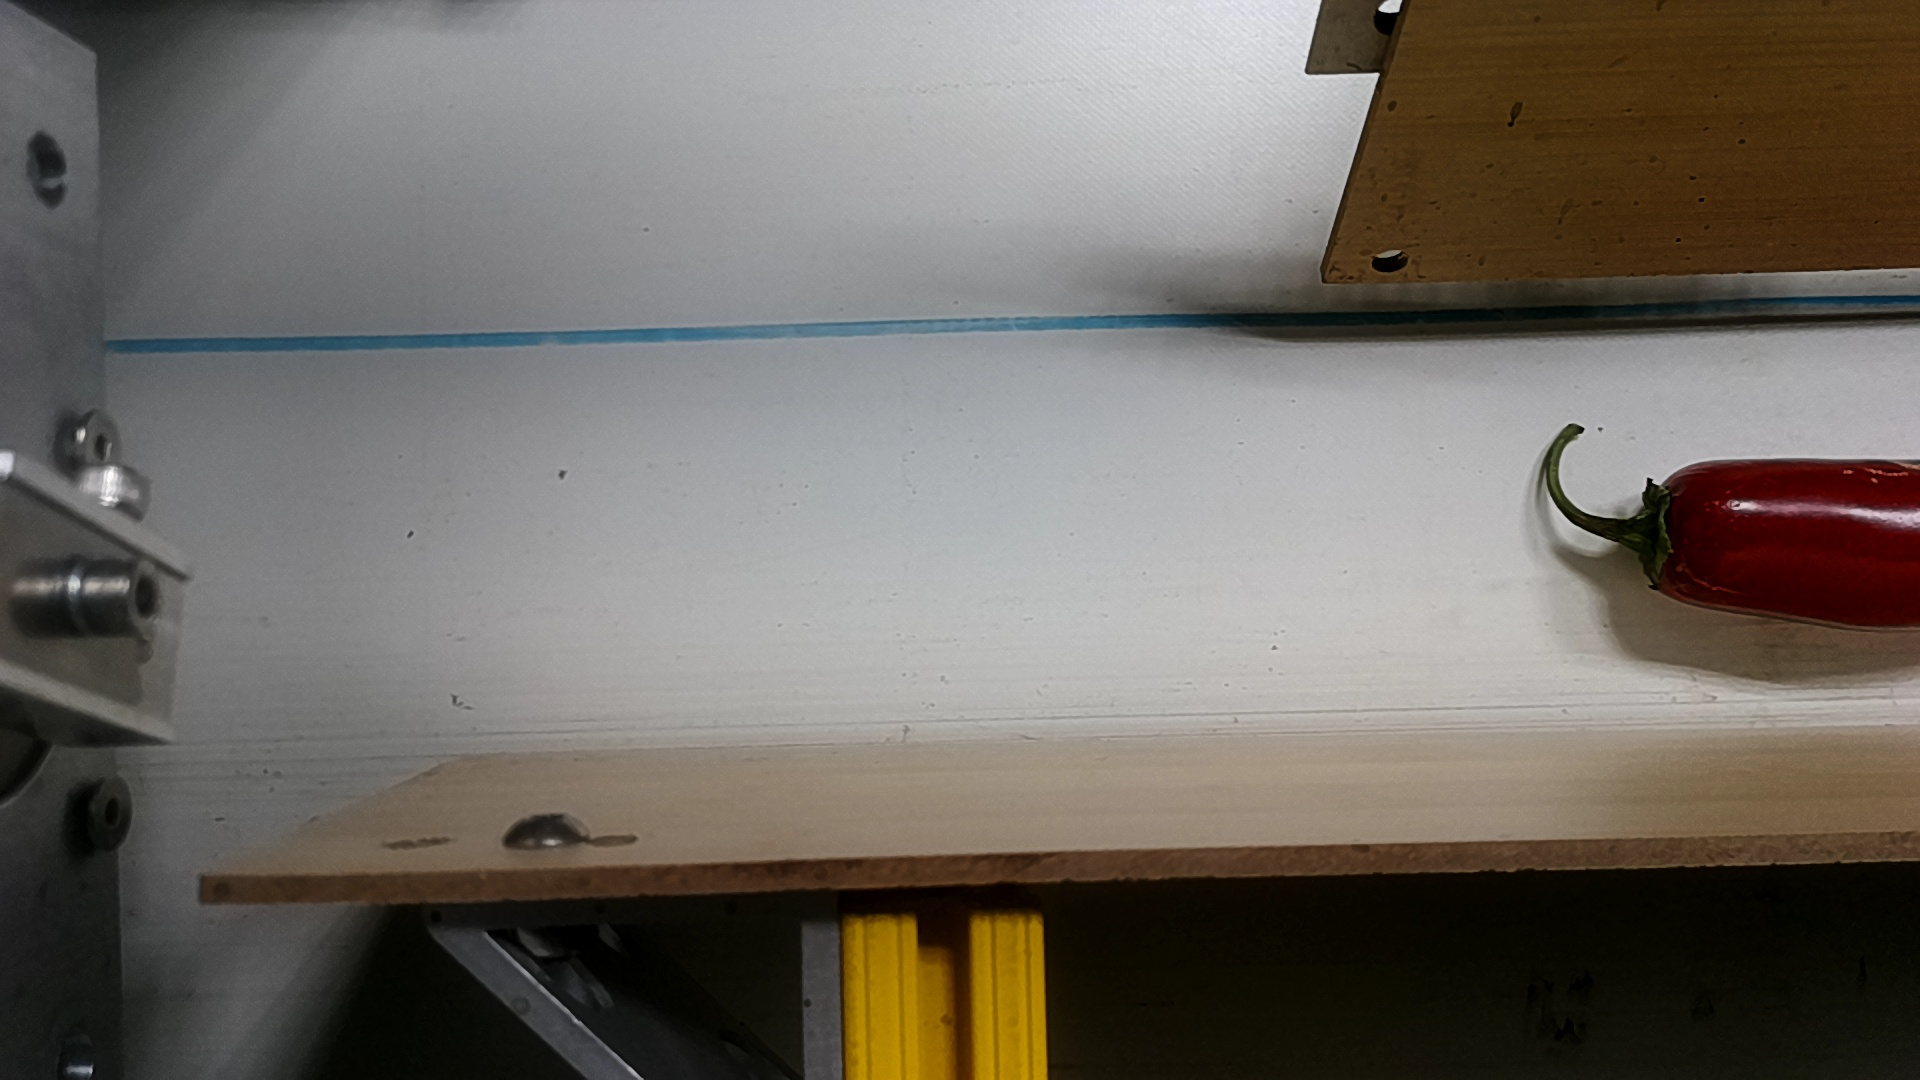Cut Point: (1613, 454, 1722, 611)
